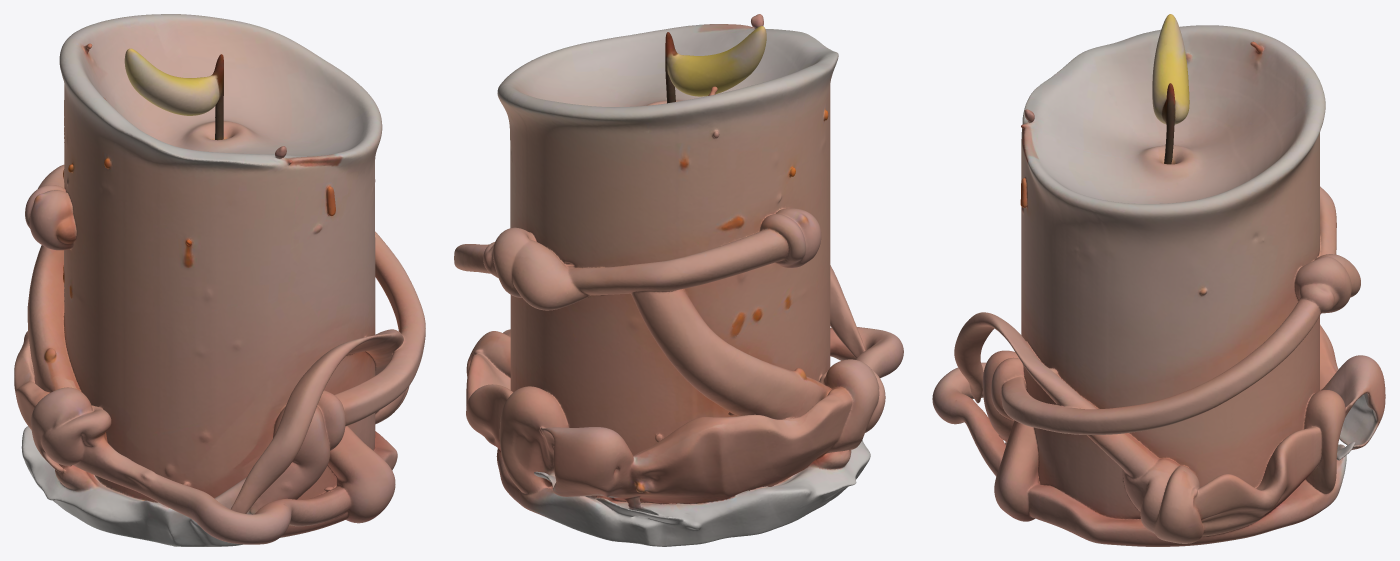
Rendered from detailed_realistic_model_floatingcandles_18.glb.
3 views of the same model, side by side, from view 1: azimuth 30°, elevation 25°; view 2: azimuth 150°, elevation 25°; view 3: azimuth 270°, elevation 25° (orthographic). The views are drawn at different scales.
Parts seen in each view (by area): view 1: tripo_node_9ff30bca-ea7c-41a1-bf3a-7789a50c6101; view 2: tripo_node_9ff30bca-ea7c-41a1-bf3a-7789a50c6101; view 3: tripo_node_9ff30bca-ea7c-41a1-bf3a-7789a50c6101.
Boxes of the visible parts, <box> form: tripo_node_9ff30bca-ea7c-41a1-bf3a-7789a50c6101: <box>14,14,425,546</box>; tripo_node_9ff30bca-ea7c-41a1-bf3a-7789a50c6101: <box>454,14,903,546</box>; tripo_node_9ff30bca-ea7c-41a1-bf3a-7789a50c6101: <box>932,14,1385,546</box>.
Size of the model in its own units: 0.8784 by 1 by 0.9441.
1 material, 1 textured.
